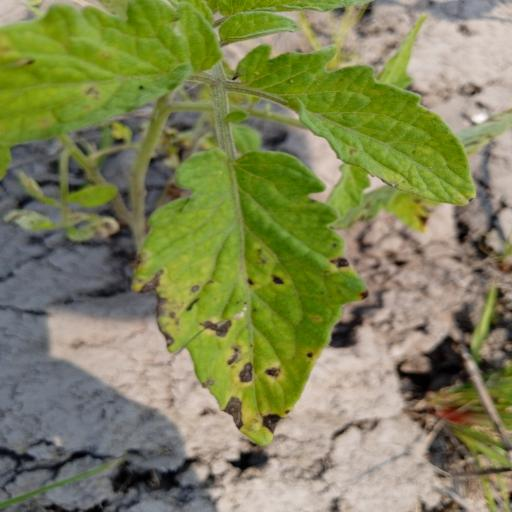Tomato_Brown_Spots: (128, 148, 366, 449), (227, 36, 488, 205), (0, 0, 228, 152)
